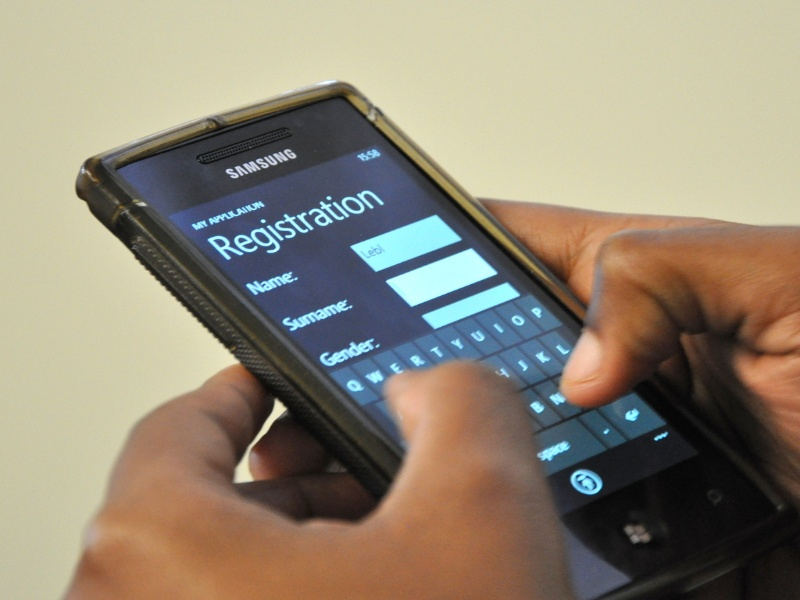cellphone: (59, 73, 791, 586)
